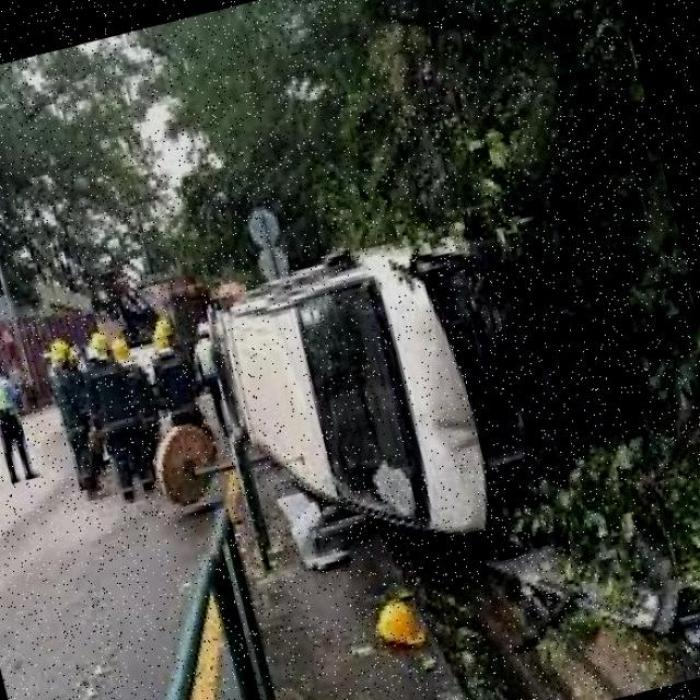Accident: (203, 211, 601, 605)
